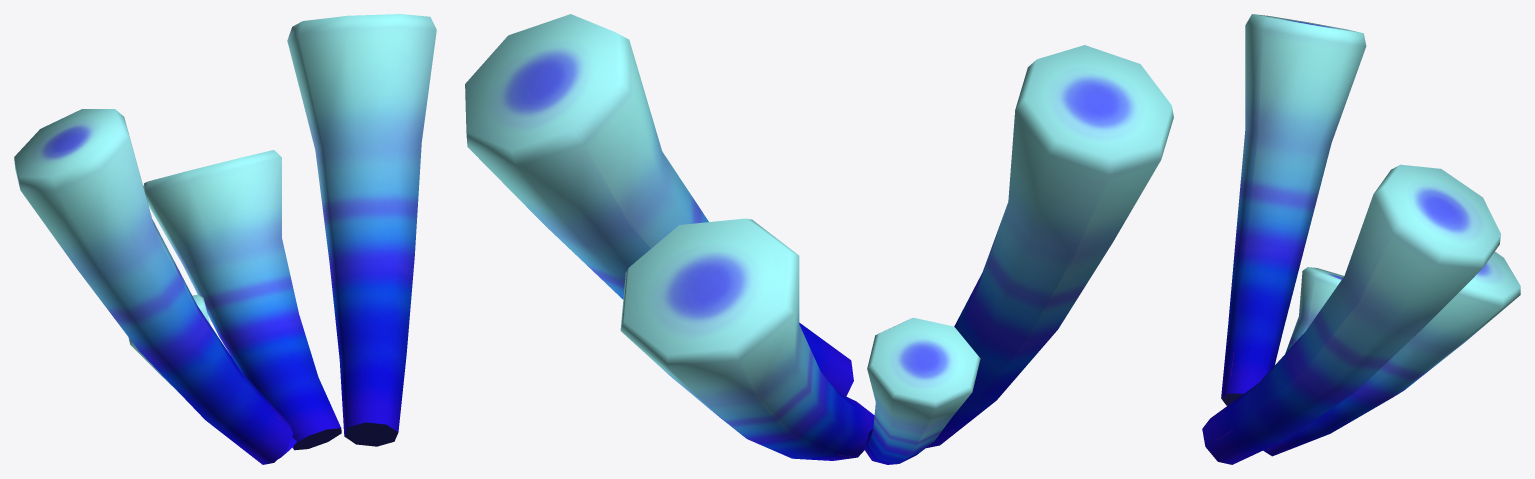
Rendered from Avatar_plant_03.fbx.
The picture shows the model from 3 angles, left to right: view 1: azimuth 30°, elevation 25°; view 2: azimuth 150°, elevation 25°; view 3: azimuth 270°, elevation 25°; orthographic projection. The views are drawn at different scales.
Parts seen in each view (by area): view 1: Avatar_plant_03; view 2: Avatar_plant_03; view 3: Avatar_plant_03.
Part boxes in pixels (left/top/right/bottom): Avatar_plant_03: left=14, top=14, right=436, bottom=464; Avatar_plant_03: left=465, top=14, right=1173, bottom=464; Avatar_plant_03: left=1202, top=14, right=1520, bottom=464.
Size of the model in its own units: 75.12 by 55.95 by 46.51.
